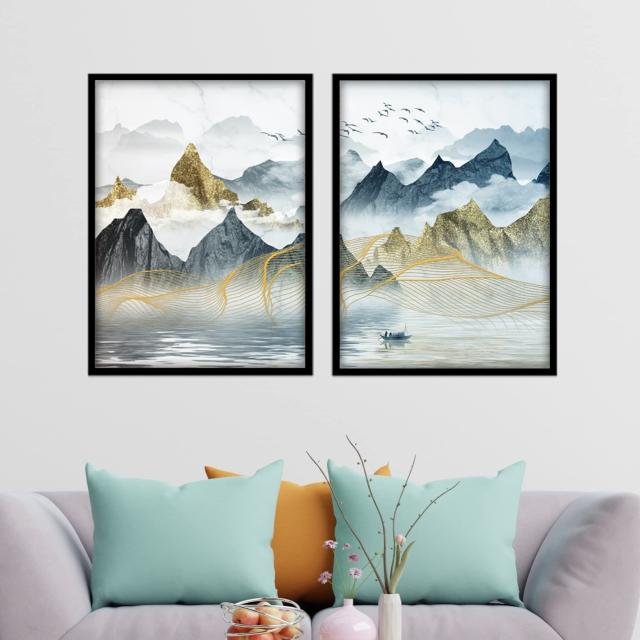painting: (331, 75, 559, 378), (87, 73, 314, 376)
